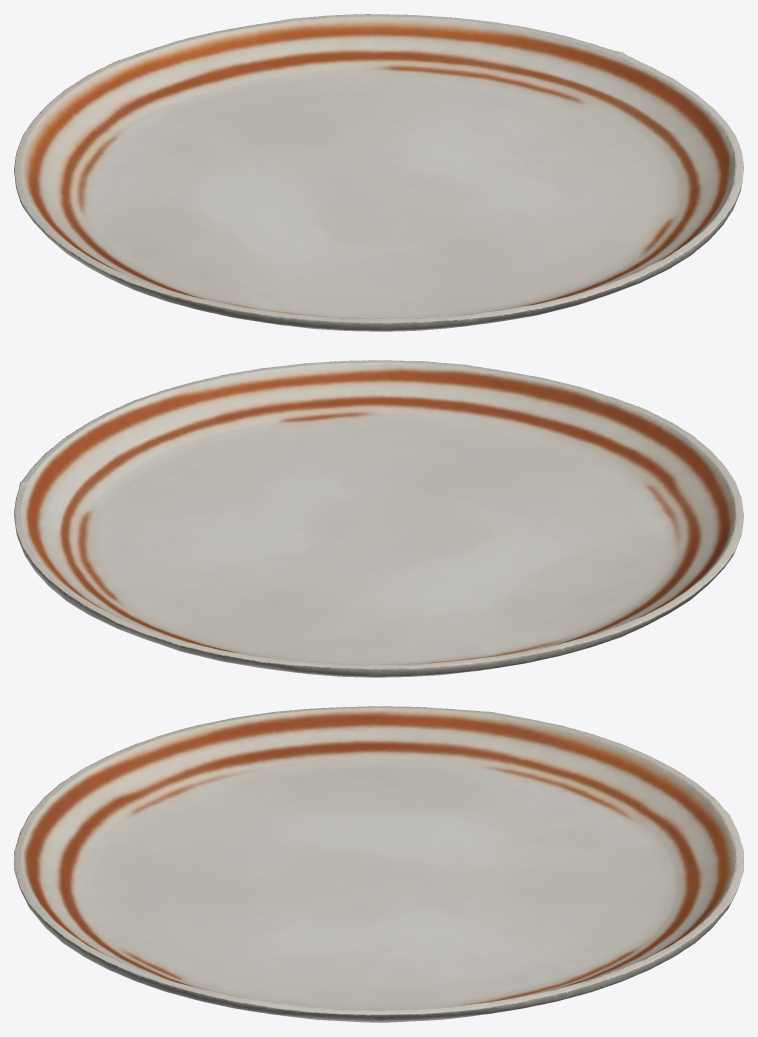
Rendered from Threshold_Bistro_Ceramic_Dinner_Plate_Ruby_Ring.glb.
3 views of the same model, one above another, from view 1: azimuth 30°, elevation 25°; view 2: azimuth 150°, elevation 25°; view 3: azimuth 270°, elevation 25° (orthographic).
Parts seen in each view (by area): view 1: geometry_0; view 2: geometry_0; view 3: geometry_0.
Part boxes in pixels (left/top/right/bottom): geometry_0: left=14, top=14, right=743, bottom=331; geometry_0: left=14, top=360, right=743, bottom=677; geometry_0: left=14, top=706, right=743, bottom=1022.
Size of the model in its own units: 1 by 0.0538 by 1.
Materials: 1 (1 with a texture image).
